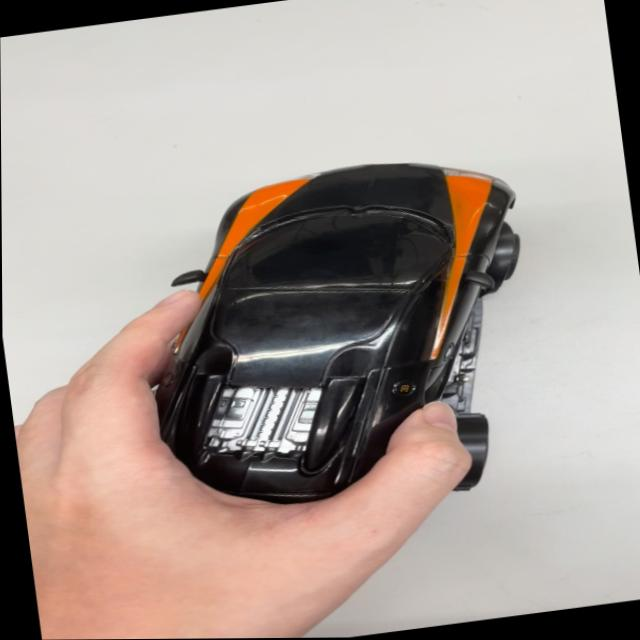vehicle_body: (130, 137, 559, 521)
